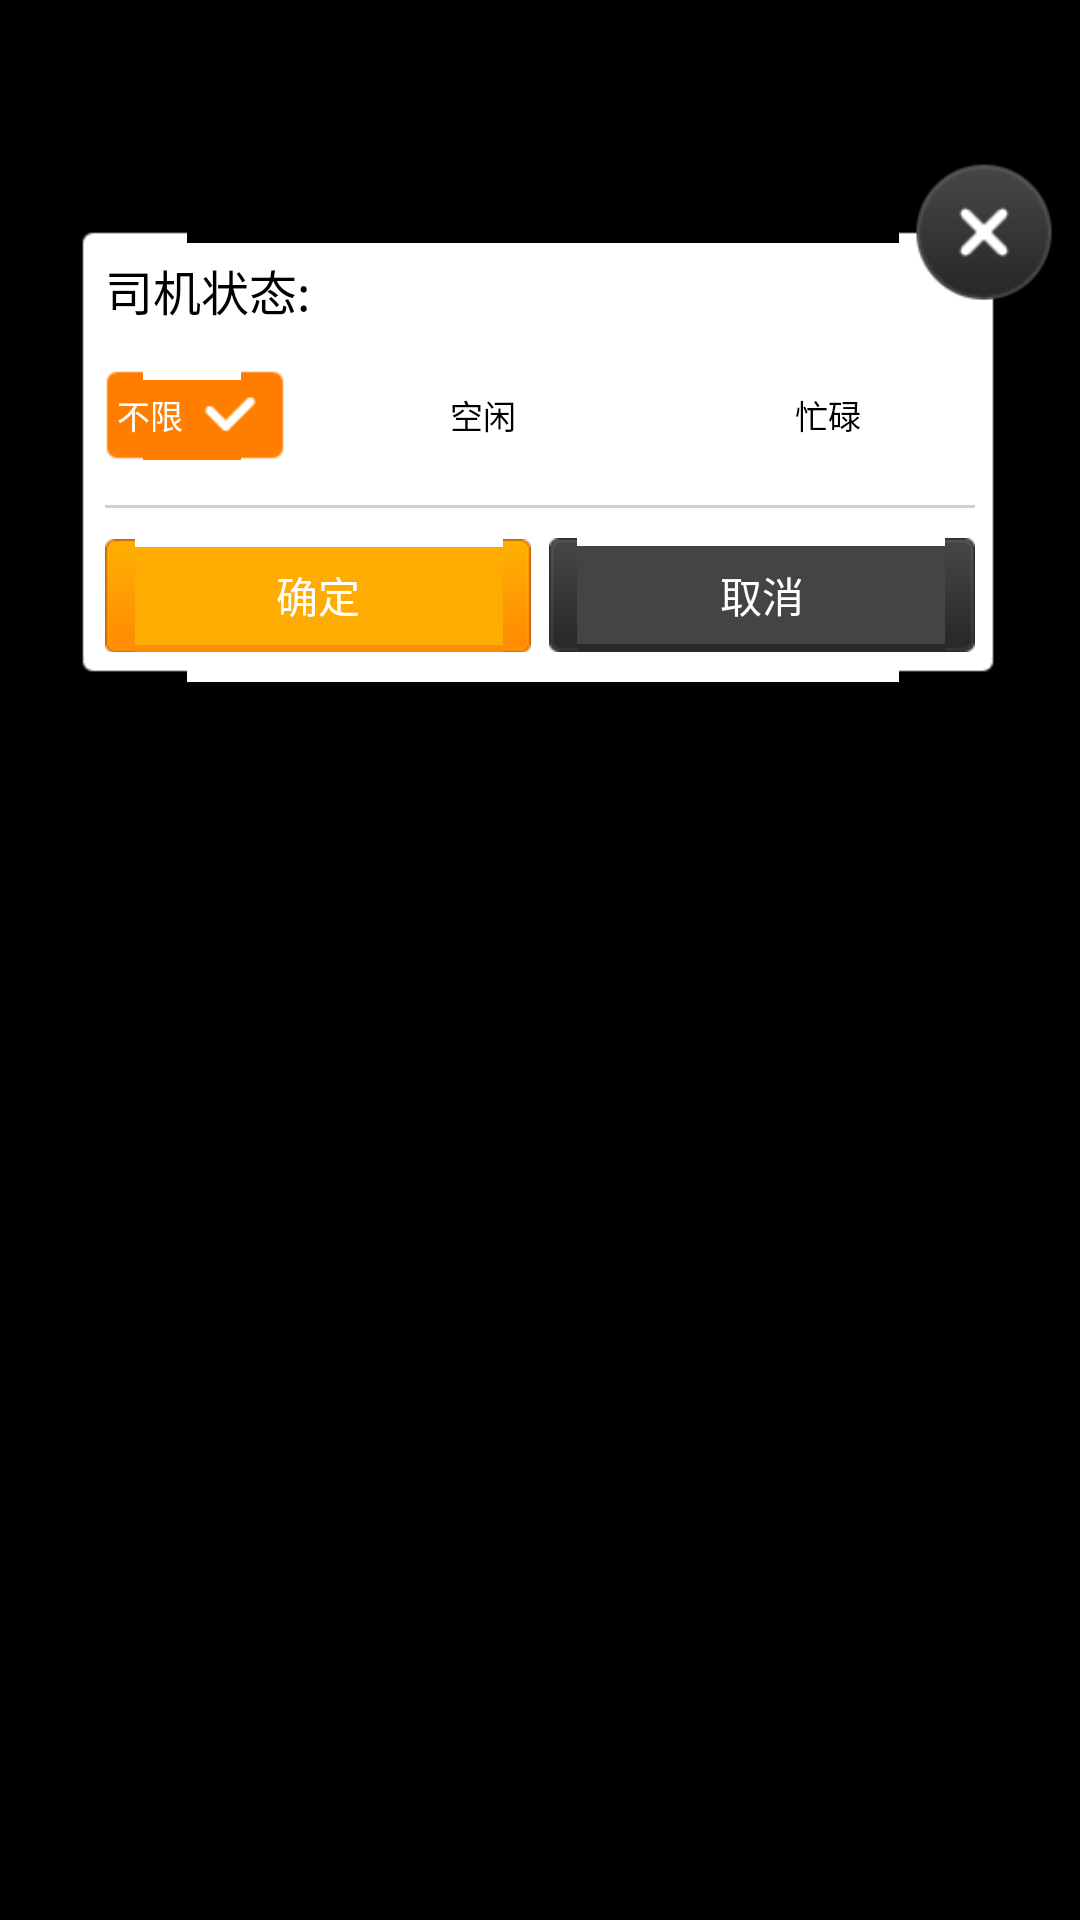

Where to tap for icons on this 1080x1920 app screen, as (x,y):
checked: (230,414)
